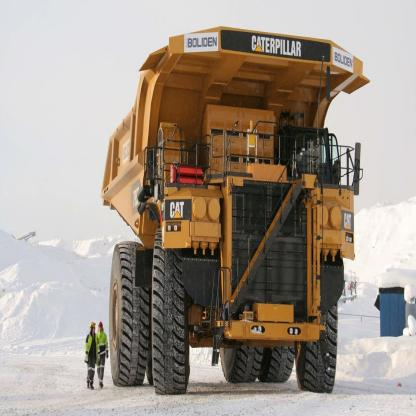dump_truck: (78, 2, 376, 399)
person: (92, 310, 112, 390), (82, 318, 99, 393)
